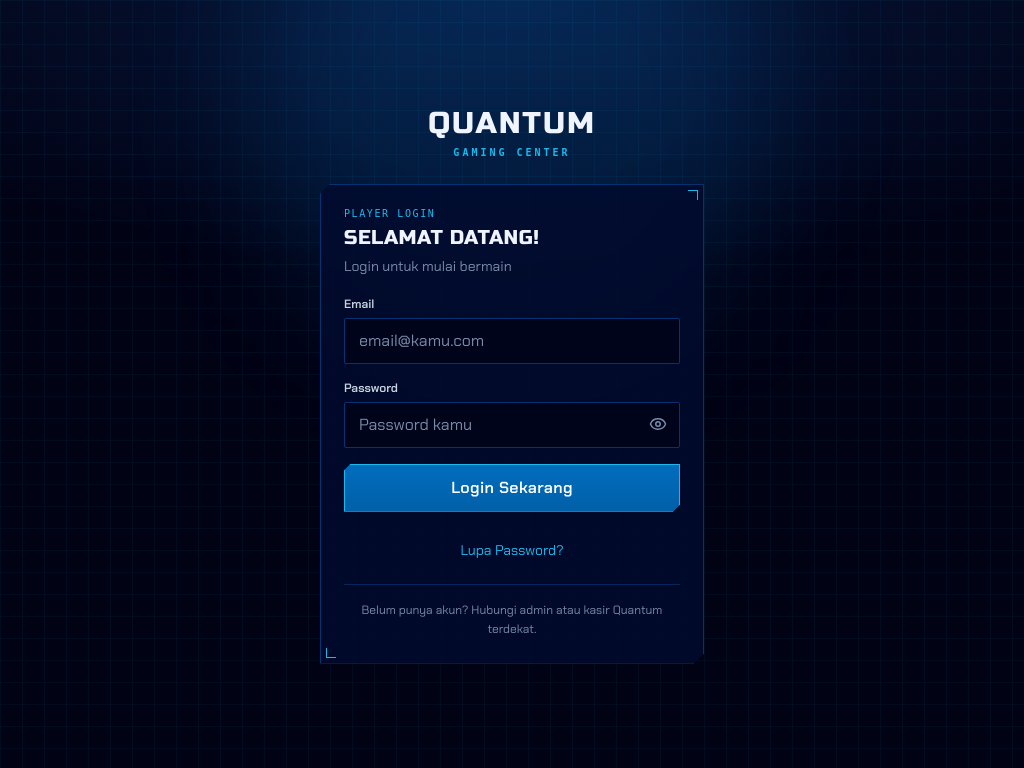
LoginView › shows server error message on login failure
Type "x@test.com" into the field labelled "Email" at (512, 340), box x1=344 y1=318 x2=680 y2=364
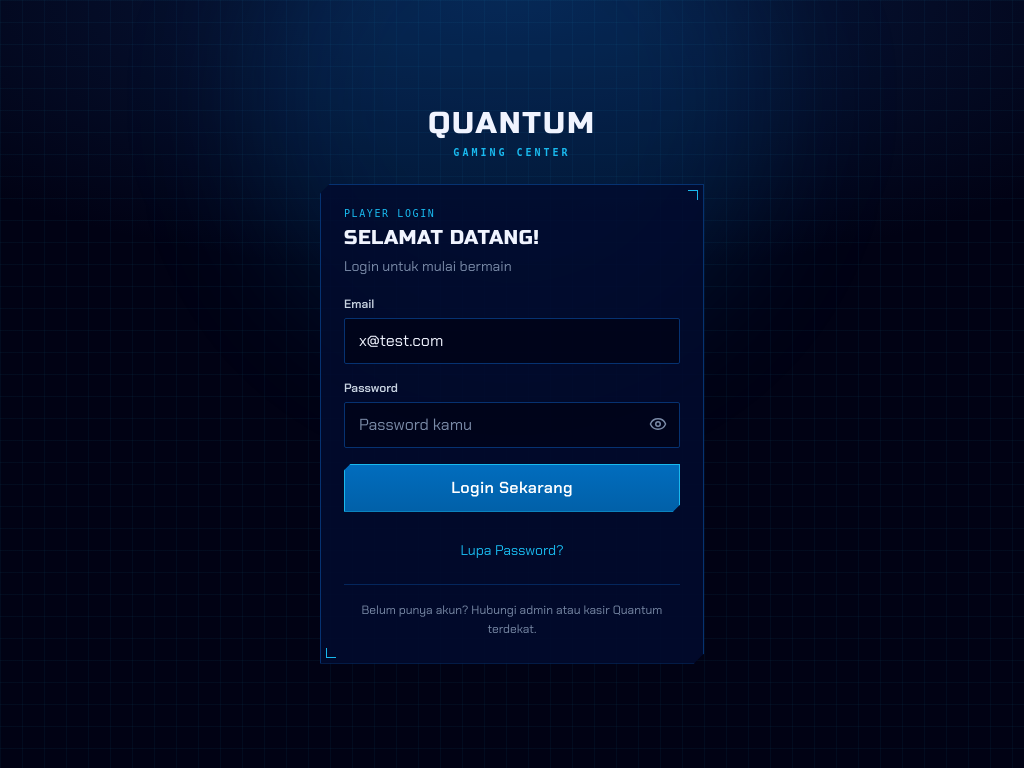
Type "wrong" into the password field labelled "Password" at (512, 424), box x1=344 y1=402 x2=680 y2=448
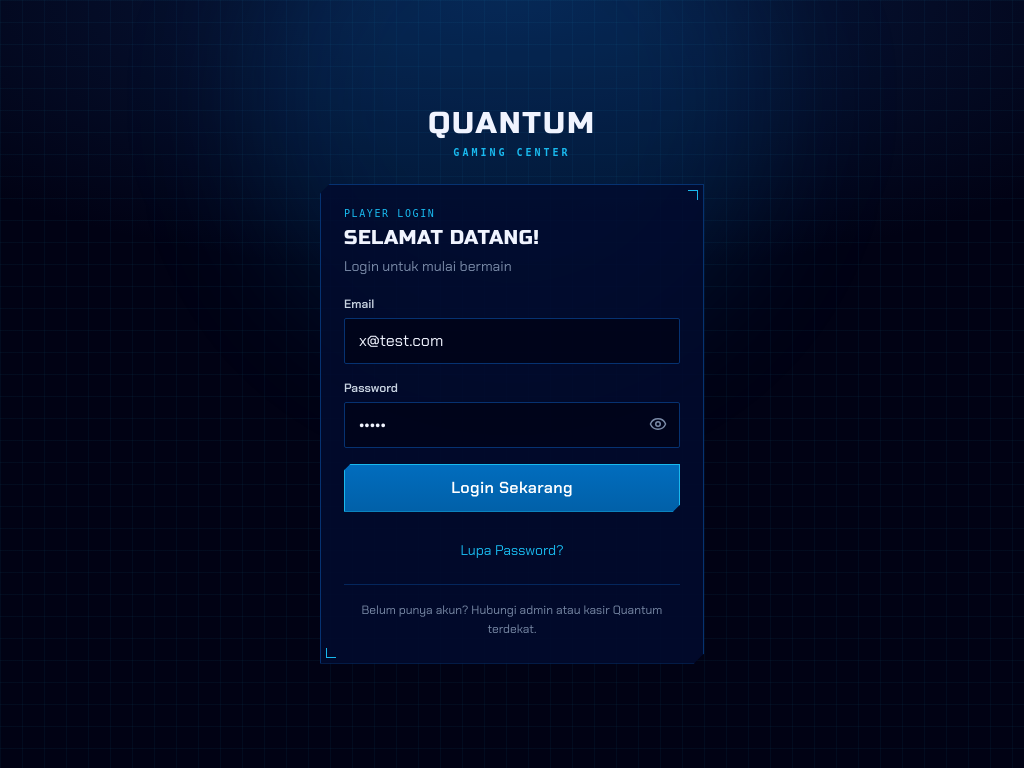
Submit the form, box x1=344 y1=296 x2=680 y2=512
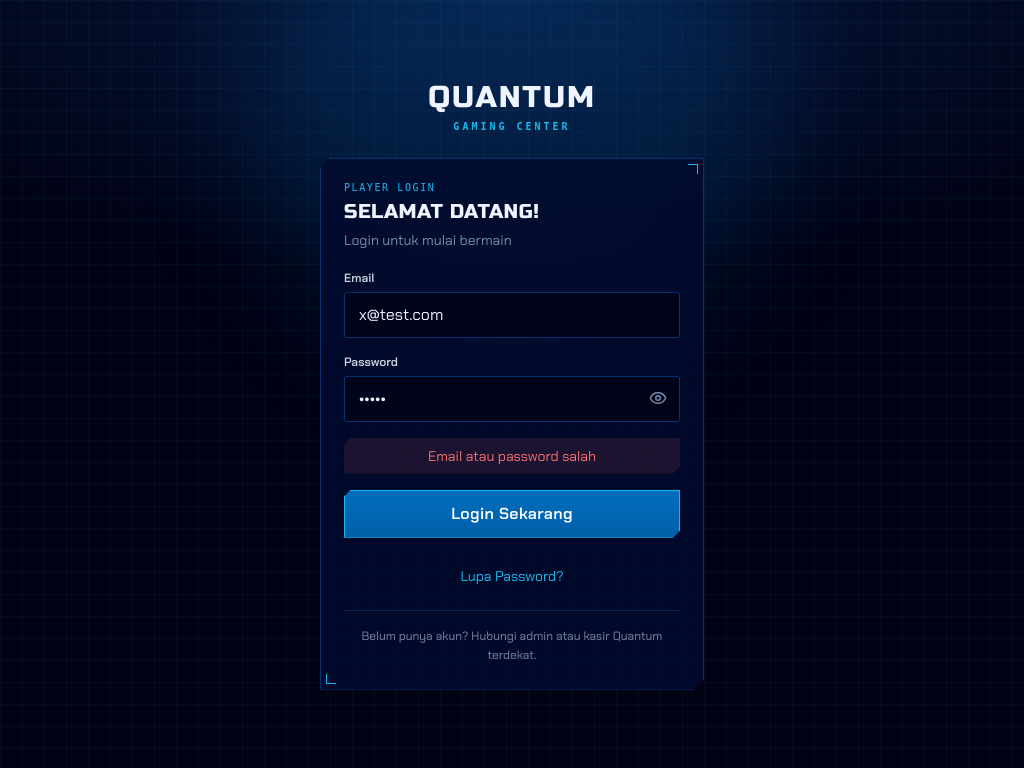
Now the text "Email atau password salah" is shown, box x1=344 y1=438 x2=680 y2=474
